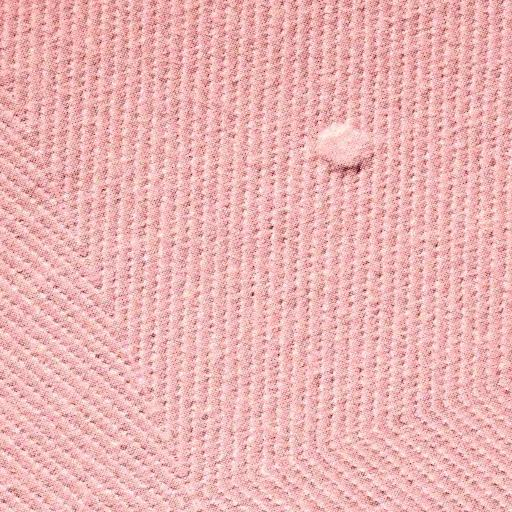knot: (308, 121, 384, 174)
